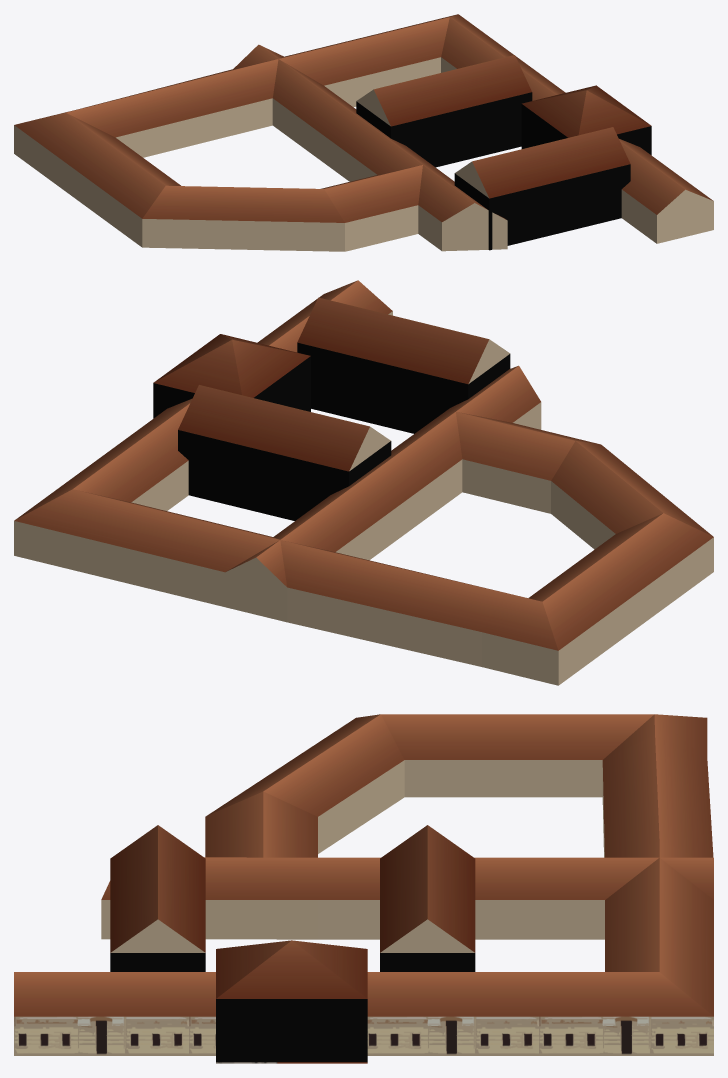
Rendered from SM_Building_HoaLu_Prison.fbx.
3 views of the same model, one above another, from view 1: azimuth 30°, elevation 25°; view 2: azimuth 150°, elevation 25°; view 3: azimuth 270°, elevation 25° (orthographic). The views are drawn at different scales.
Visible parts, largest first — view 1: SM_Building_HoaLu_Prison; view 2: SM_Building_HoaLu_Prison; view 3: SM_Building_HoaLu_Prison.
Part boxes in pixels (<box>): SM_Building_HoaLu_Prison: <box>14,14,713,251</box>; SM_Building_HoaLu_Prison: <box>14,280,713,685</box>; SM_Building_HoaLu_Prison: <box>14,714,713,1063</box>.
Size of the model in its own units: 96.83 by 15.41 by 93.47.
